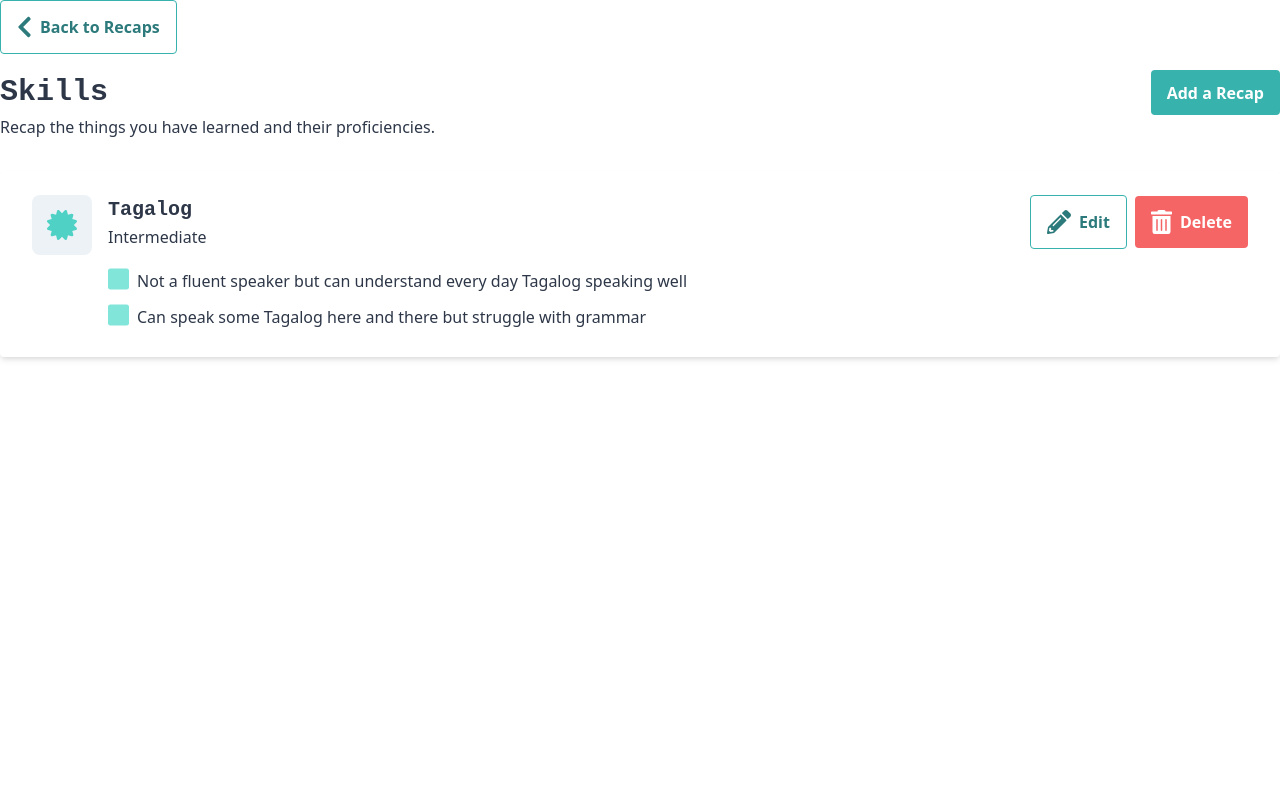
Test: <SkillsLayout /> › should show the success alert after deleting a recap successfully
This screenshot has width=1280, height=800.
Click the button "Delete" at x=1192, y=222, box [1135,196,1248,248]
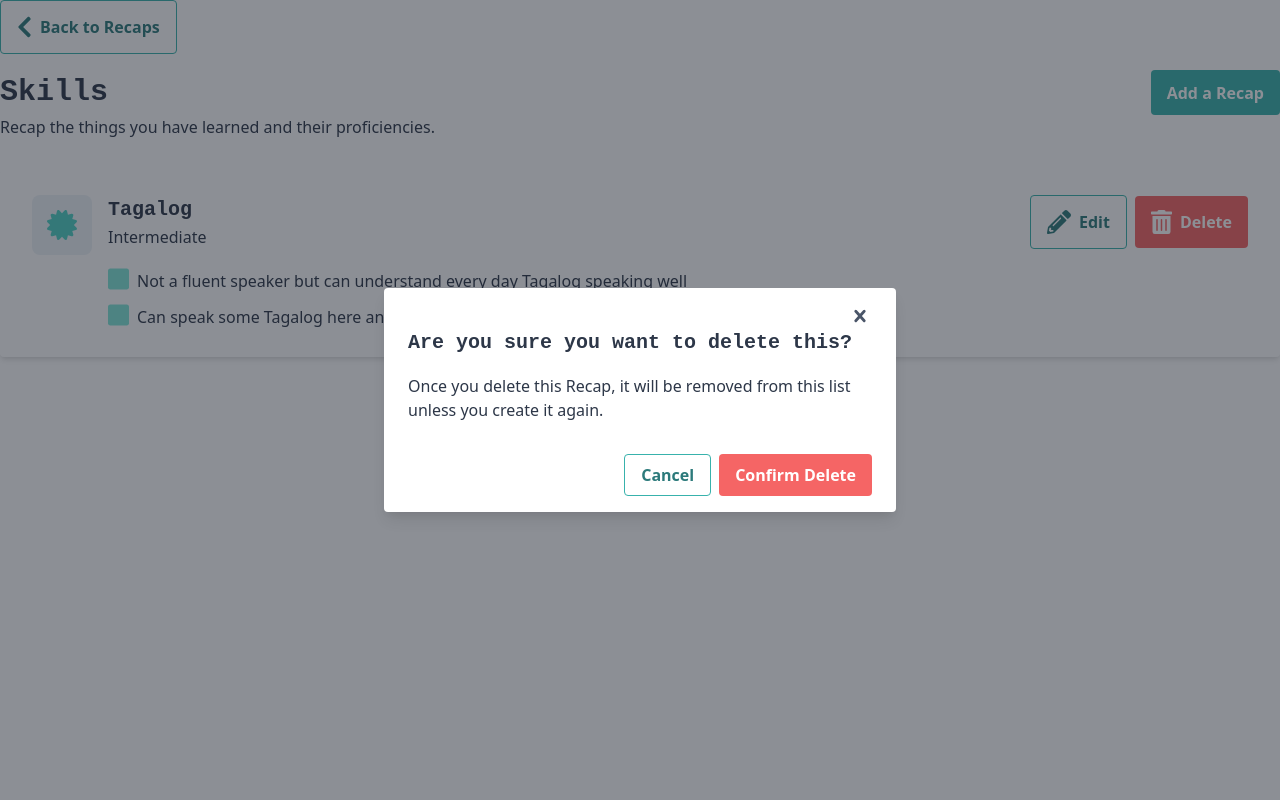
Now the heading "Are you sure you want to delete this?" is shown, box [408,328,872,358]
Click the button "Confirm Delete" at x=796, y=475, box [719,454,872,496]
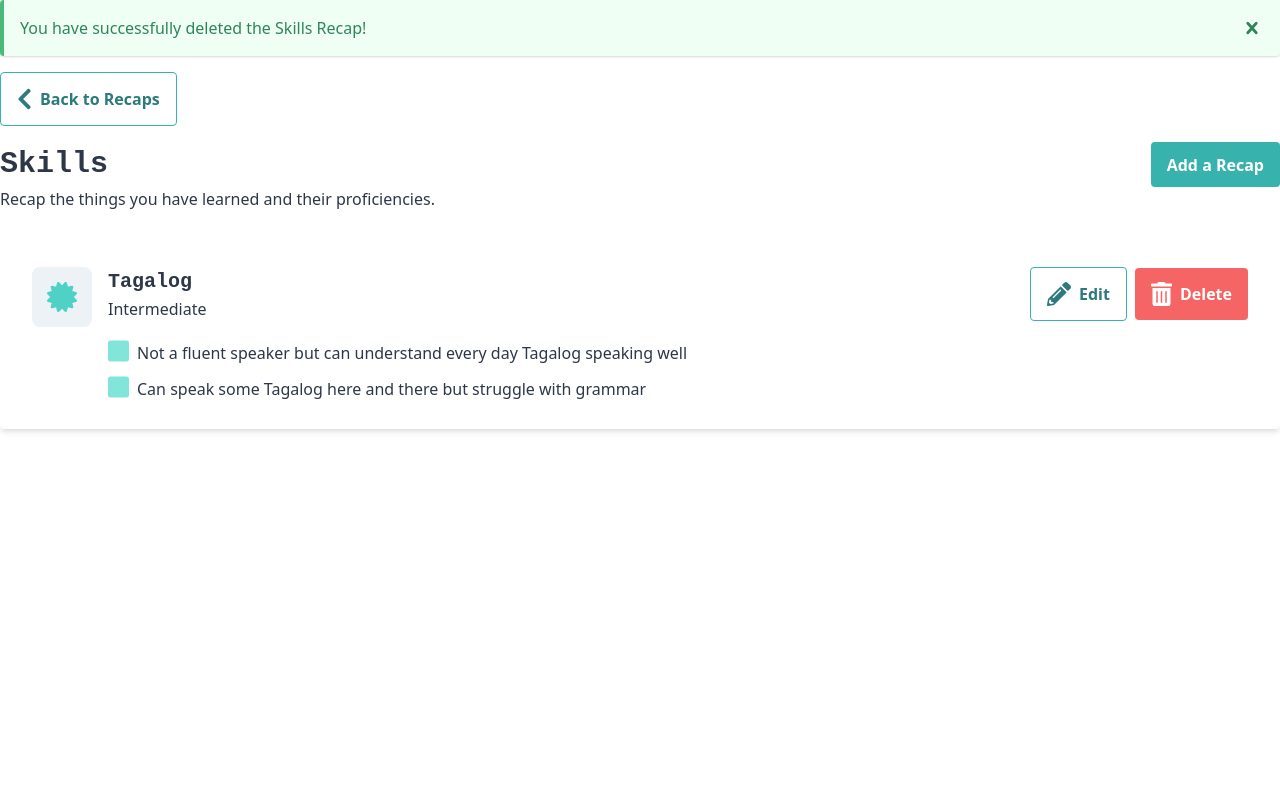
Now the heading "Are you sure you want to delete this?" is gone
Now the text "You have successfully deleted the Skills Recap!" is shown, box [20,17,366,39]
